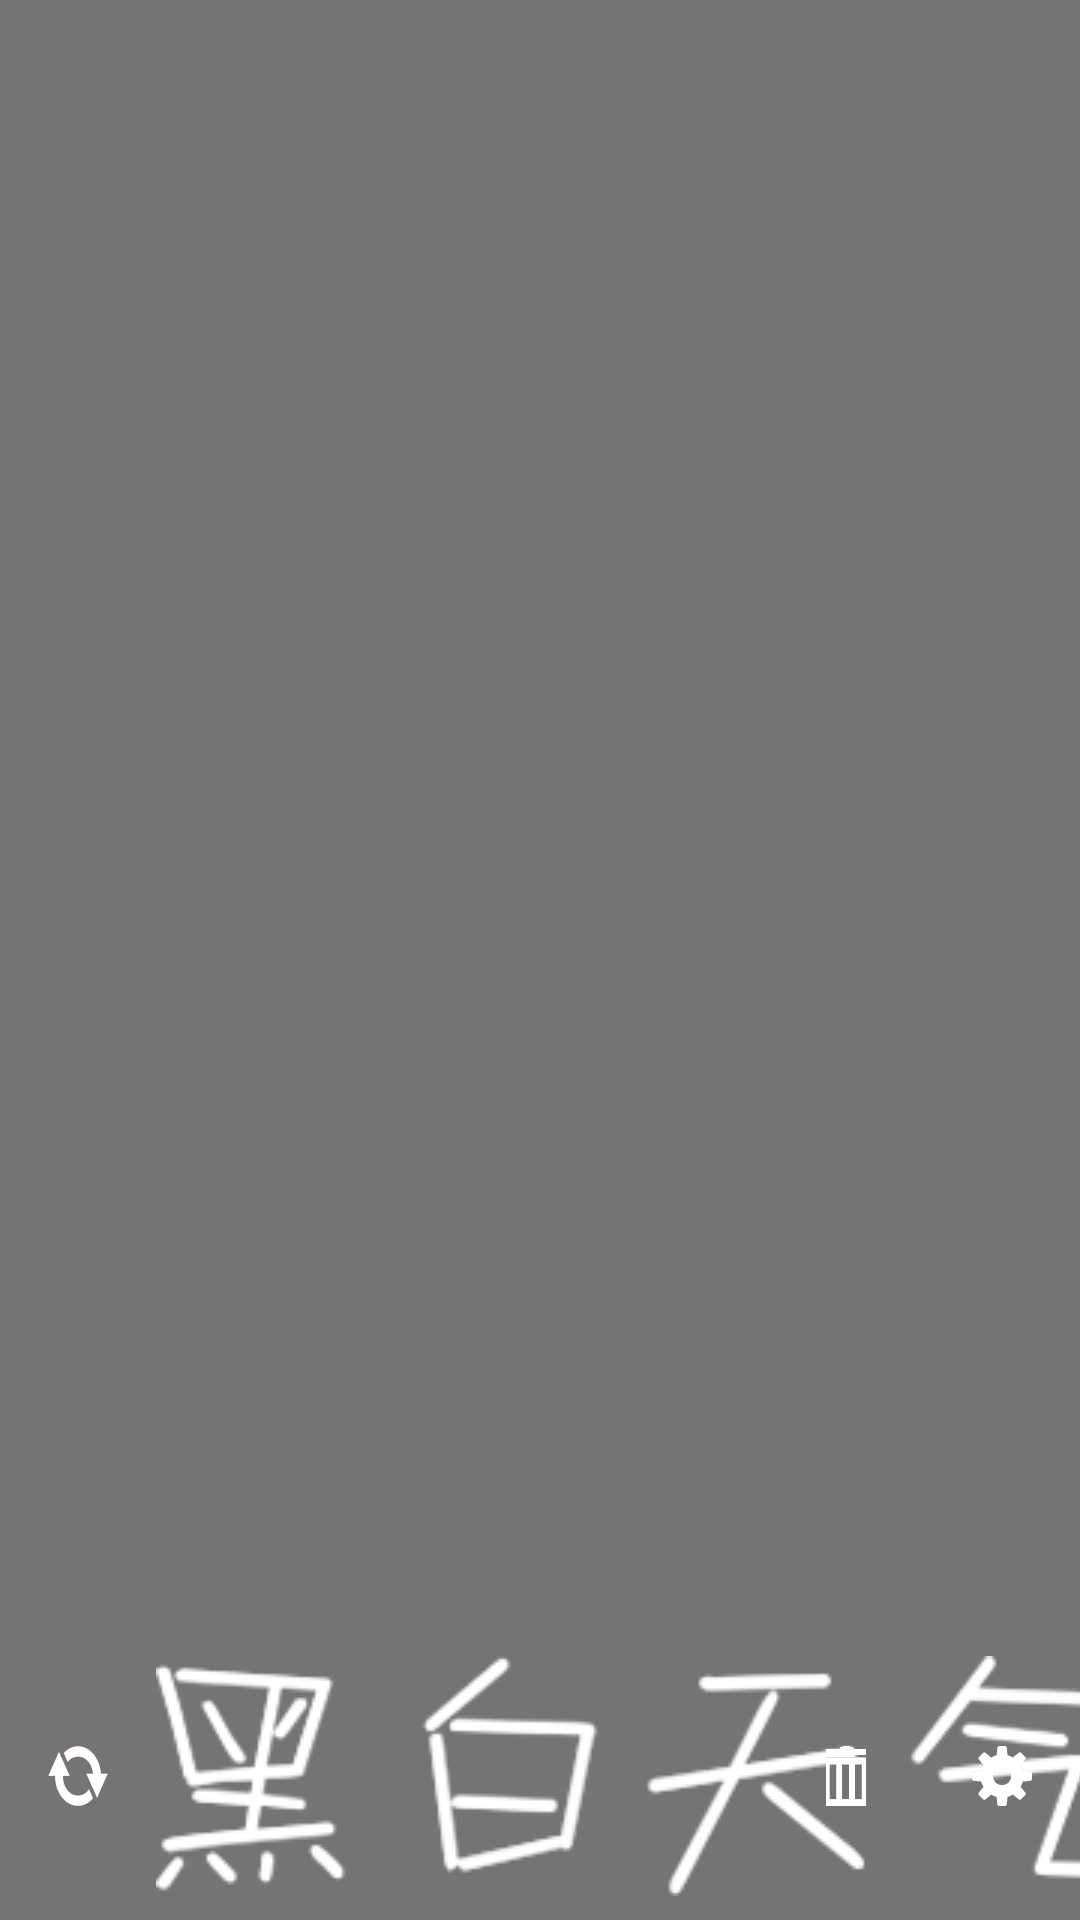

Icon click points for this 1080×1920 phone screenshot, format point (x, y):
delete: point (841, 1776)
settings: point (1002, 1776)
switch: point (78, 1776)
